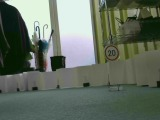speed_20: (101, 44, 120, 61)
